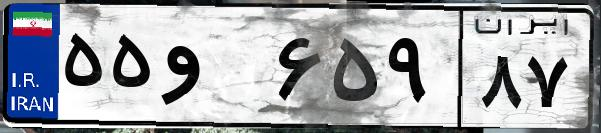5: (330, 28, 385, 110), (57, 26, 110, 100), (110, 28, 158, 98)
6: (270, 28, 330, 110)
7: (525, 38, 570, 115)
8: (475, 38, 525, 113)
9: (385, 28, 445, 110)
و: (158, 20, 270, 120)
